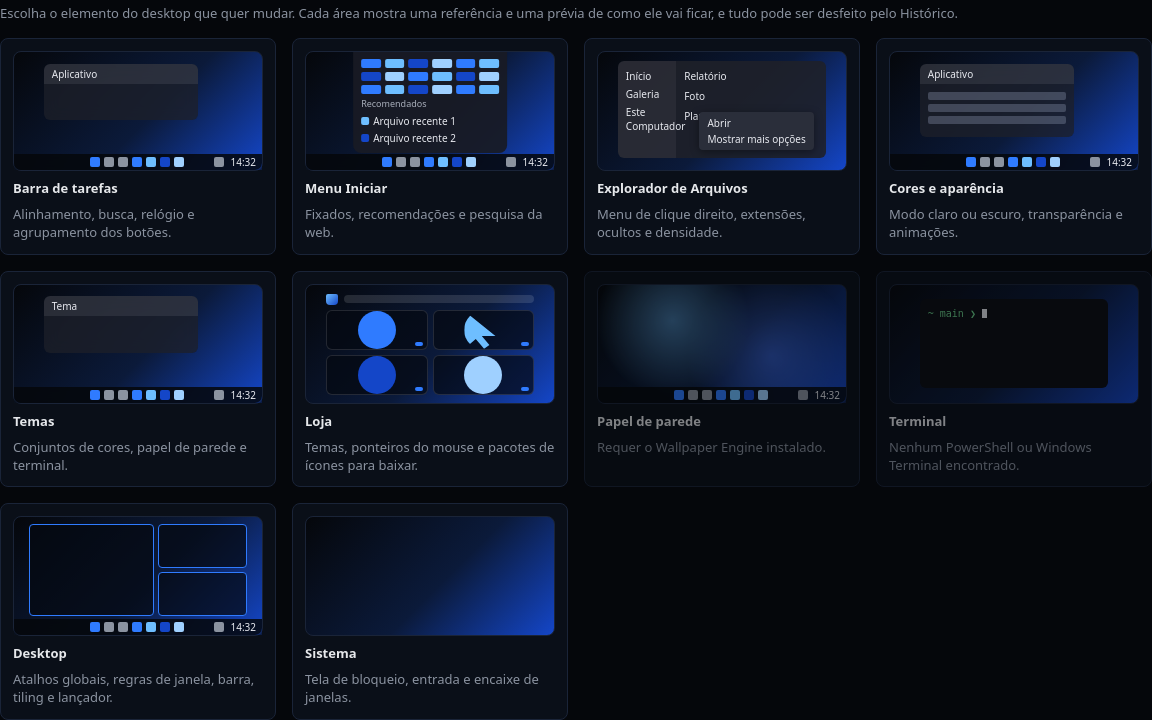
Test case: Desktop em Personalizar › shows_problems_of_the_current_file
The width and height of the screenshot is (1152, 720).
(page scrolled)
Click the button "Desktop".
click(138, 611)  # box [0,503,276,719]
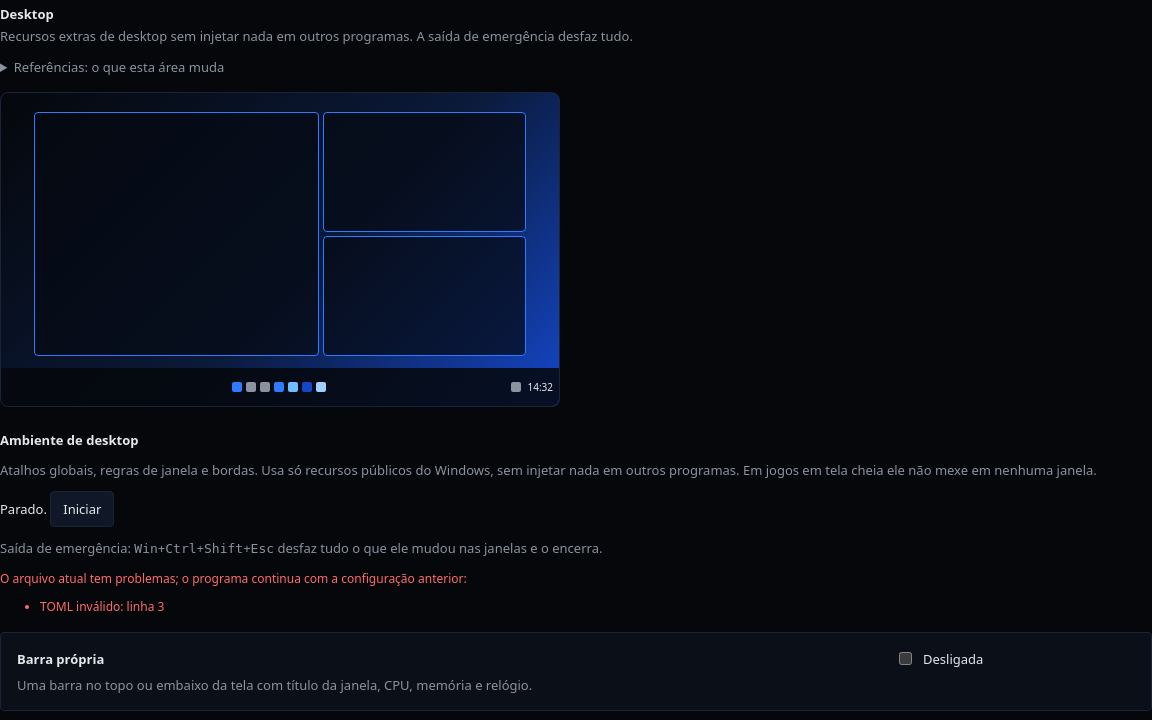
expect the list item "TOML inválido: linha 3" is shown: met, box [40,598,164,615]
expect the text "continua com a configuração anterior" is shown: met, box [0,570,467,586]
